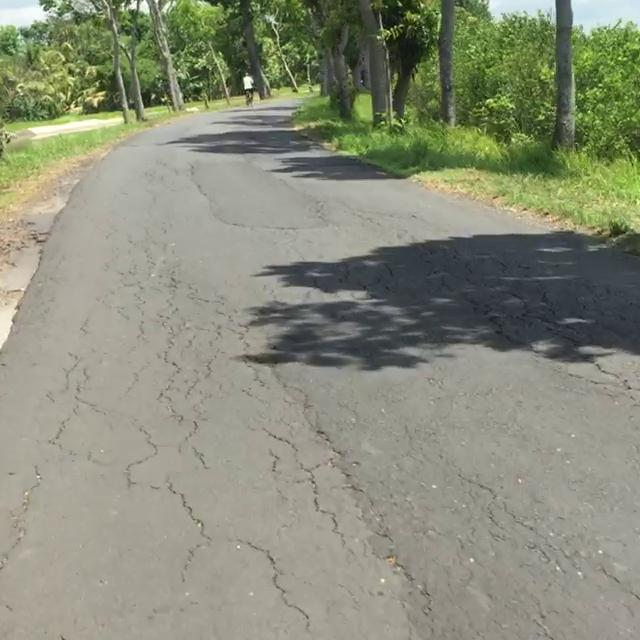retak_kulit_buaya: (121, 433, 356, 633), (76, 247, 284, 446)
